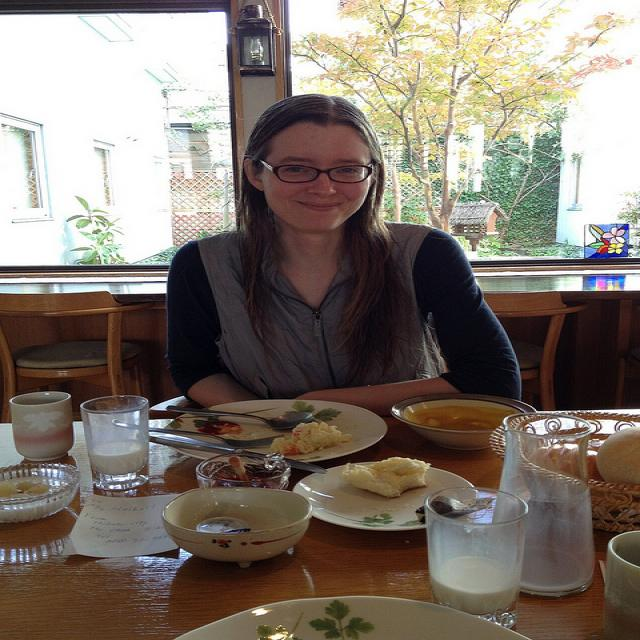chair: (481, 292, 588, 411), (16, 338, 143, 398)
dining table: (8, 388, 640, 633)
